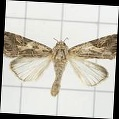Spodoptera litura: (3, 30, 116, 97)
